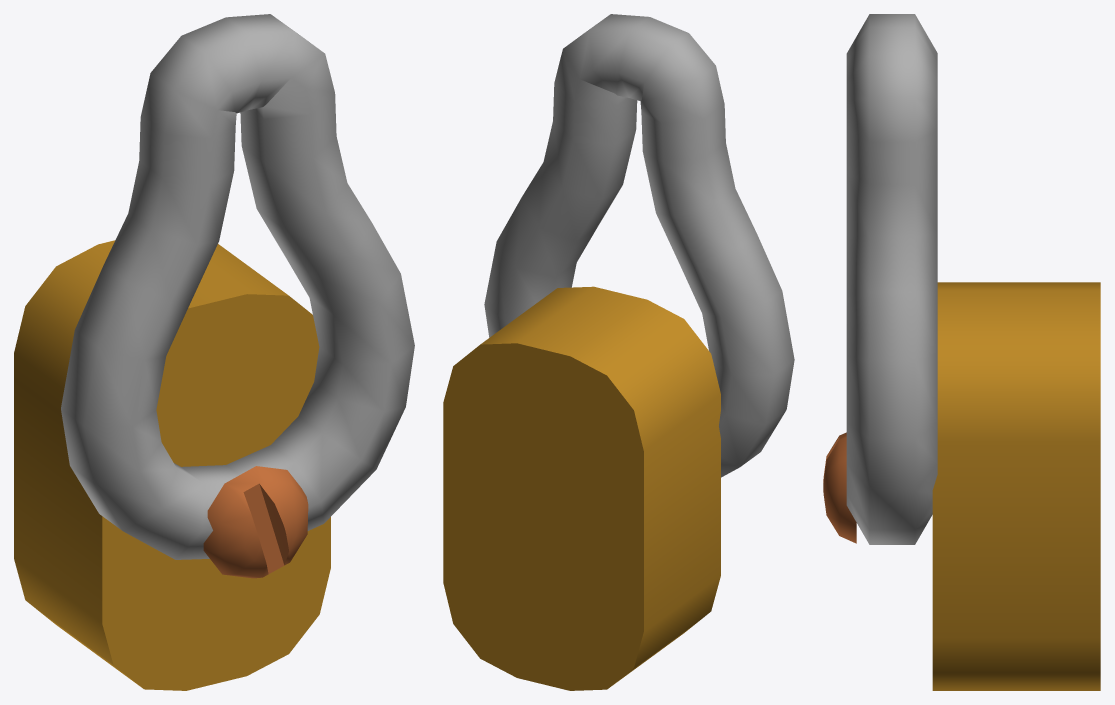
File: ZipLine_Grab.fbx
The picture shows the model from 3 angles, left to right: view 1: azimuth 30°, elevation 25°; view 2: azimuth 150°, elevation 25°; view 3: azimuth 270°, elevation 25°; orthographic projection. The views are drawn at different scales.
Parts seen in each view (by area): view 1: ZipLine_Grab_HoldPoint, ZipLine_Grab; view 2: ZipLine_Grab, ZipLine_Grab_HoldPoint; view 3: ZipLine_Grab, ZipLine_Grab_HoldPoint.
Part boxes in pixels (x1,y1,x2,y2): ZipLine_Grab_HoldPoint: (61,14,414,559); ZipLine_Grab: (14,240,330,690); ZipLine_Grab: (443,286,720,690); ZipLine_Grab_HoldPoint: (484,14,794,477); ZipLine_Grab: (823,282,1100,690); ZipLine_Grab_HoldPoint: (846,14,937,544).
Size of the model in its own units: 0.4587 by 0.8933 by 0.3505.
